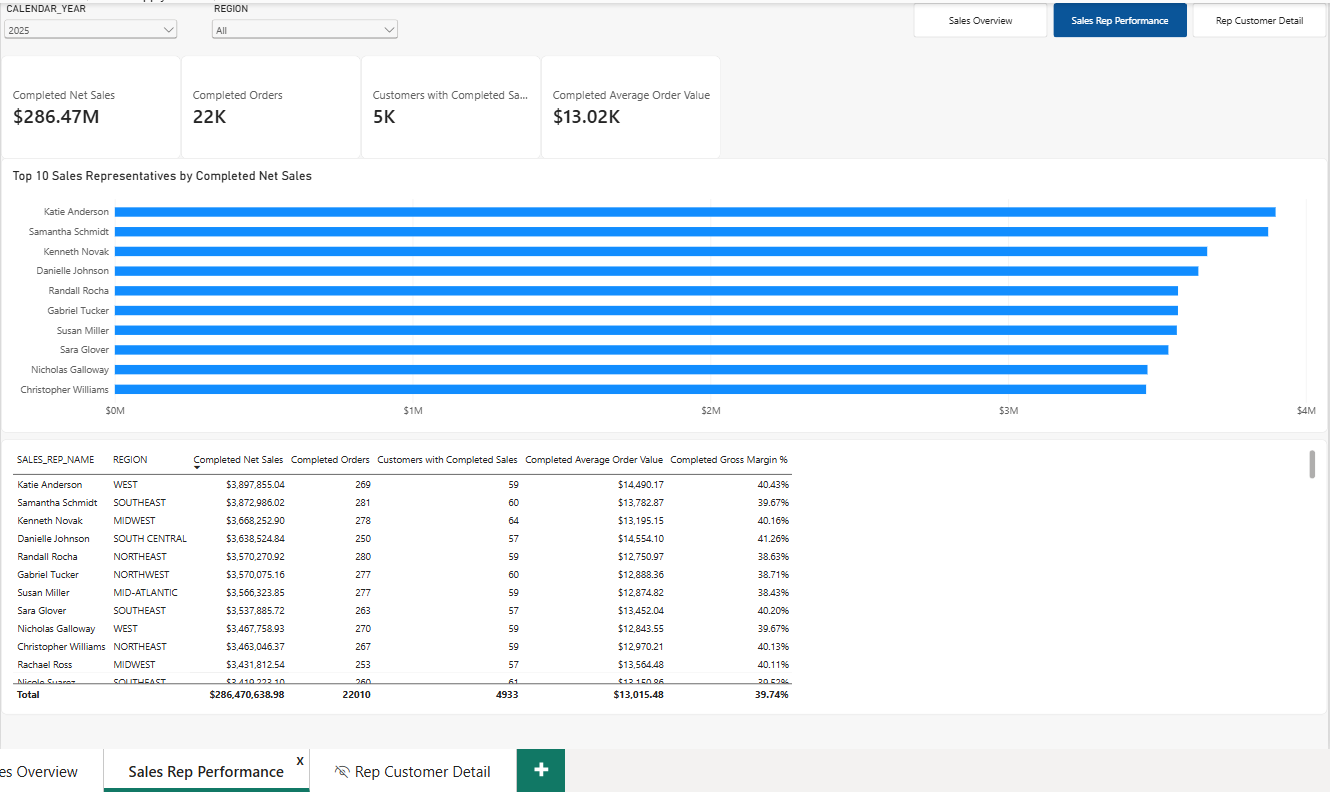

The page's visual inventory and layout, read from the dashboard file:
{"tool":"powerbi","page":{"name":"Sales Rep Performance","canvas":[1920,1080],"ordinal":1},"visuals":[{"type":"slicer","fields":{"Values":["DIM_DATE.CALENDAR_YEAR"]},"box":[0,0,260.2,110.8],"z":0},{"type":"slicer","fields":{"Values":["DIM_SALES_REP.REGION"]},"box":[301.2,0,279.5,110.8],"z":1},{"type":"cardVisual","fields":{"Data":["FACT_SALES.Completed Net Sales"]},"box":[0,75.6,260,150],"z":2},{"type":"cardVisual","fields":{"Data":["FACT_SALES.Completed Orders"]},"box":[260.7,75.6,260,150],"z":3},{"type":"cardVisual","fields":{"Data":["FACT_SALES.Customers with Completed Sales"]},"box":[521.4,75.6,260,150],"z":4},{"type":"cardVisual","fields":{"Data":["FACT_SALES.Completed Average Order Value"]},"box":[782.1,75.6,260,150],"z":5},{"type":"clusteredBarChart","title":"Top 10 Sales Representatives by Completed Net Sales","fields":{"Category":["DIM_SALES_REP.SALES_REP_NAME"],"Y":["FACT_SALES.Completed Net Sales"]},"box":[0,224.1,1920.5,397.6],"z":6},{"type":"tableEx","fields":{"Values":["DIM_SALES_REP.SALES_REP_NAME","DIM_SALES_REP.REGION","FACT_SALES.Completed Net Sales","FACT_SALES.Completed Orders","FACT_SALES.Customers with Completed Sales","FACT_SALES.Completed Average Order Value","FACT_SALES.Completed Gross Margin %"]},"box":[0,632,1920,398],"z":7},{"type":"pageNavigator","box":[1321.4,0,600,50],"z":8}]}

Visuals, with their boxes on the page's 1920x1080 design canvas (x1, y1, x2, y2). These are canvas units, not pixel positions in the 1330x792 screenshot, which may show the page scaled, cropped or inside an application window:
slicer - DIM_DATE.CALENDAR_YEAR: select_region(0, 0, 260, 111)
slicer - DIM_SALES_REP.REGION: select_region(301, 0, 581, 111)
cardVisual - FACT_SALES.Completed Net Sales: select_region(0, 76, 260, 226)
cardVisual - FACT_SALES.Completed Orders: select_region(261, 76, 521, 226)
cardVisual - FACT_SALES.Customers with Completed Sales: select_region(521, 76, 781, 226)
cardVisual - FACT_SALES.Completed Average Order Value: select_region(782, 76, 1042, 226)
"Top 10 Sales Representatives by Completed Net Sales" clusteredBarChart: select_region(0, 224, 1920, 622)
tableEx - DIM_SALES_REP.SALES_REP_NAME x DIM_SALES_REP.REGION: select_region(0, 632, 1920, 1030)
pageNavigator: select_region(1321, 0, 1921, 50)
